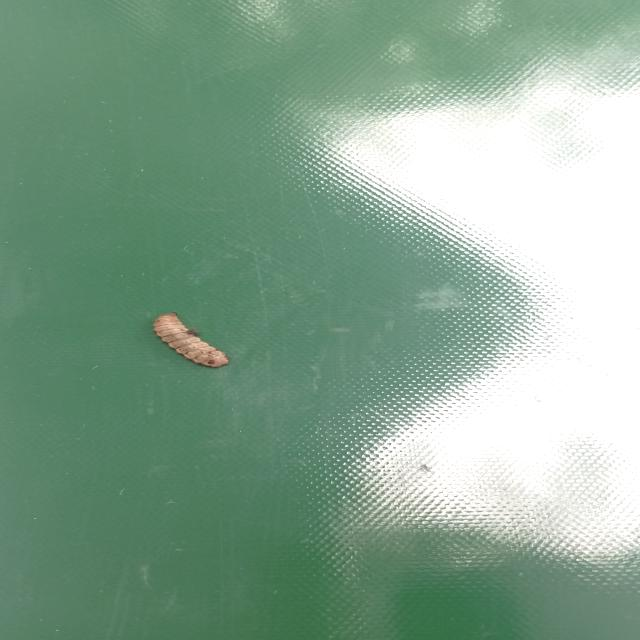Maggot: (152, 313, 228, 370)
